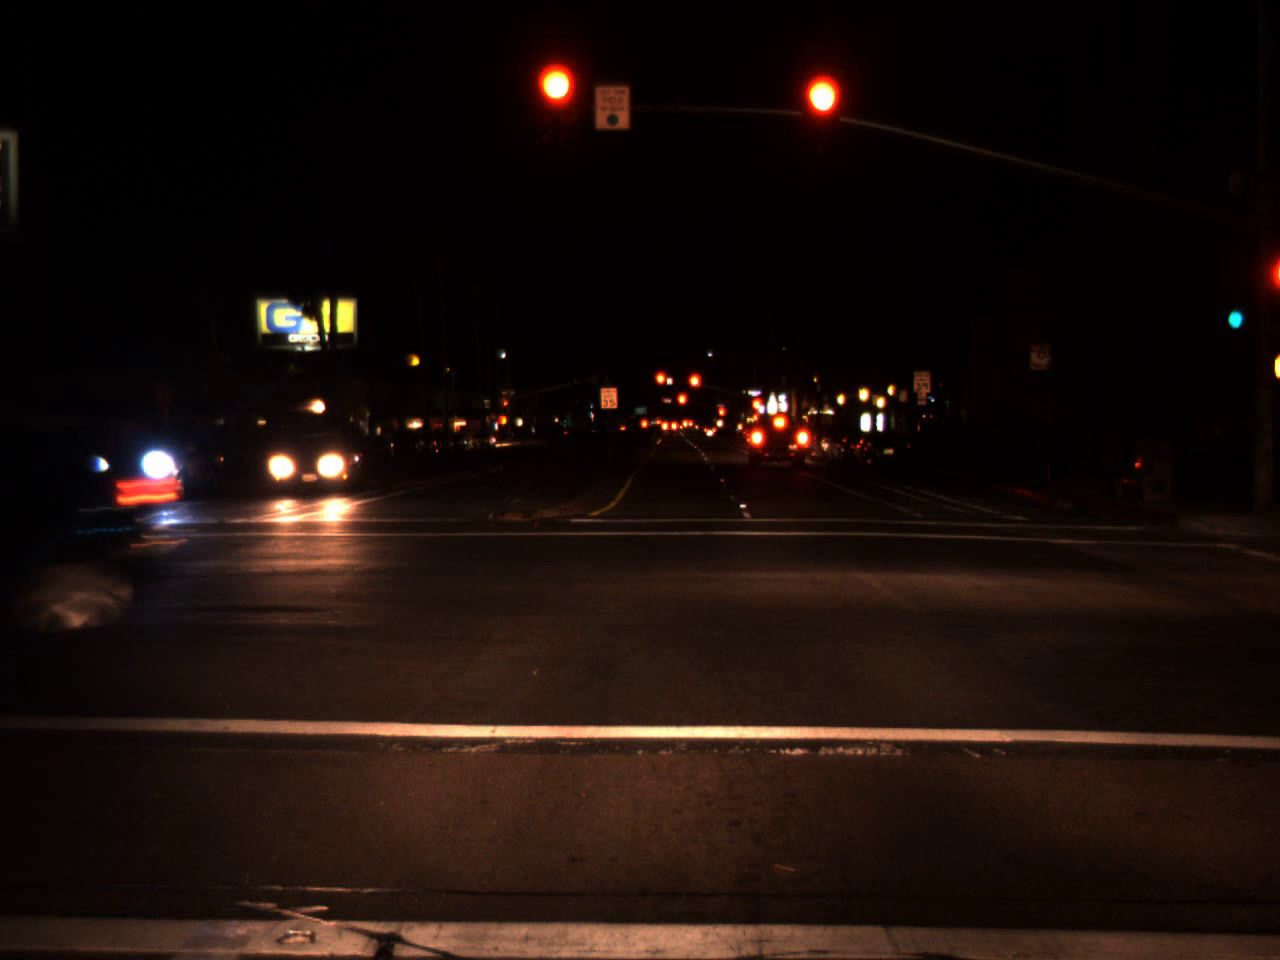stop: (801, 73, 843, 148), (537, 65, 577, 143), (686, 371, 702, 403), (653, 370, 666, 399), (676, 391, 688, 418), (499, 397, 511, 418), (750, 396, 763, 414), (717, 406, 727, 427)
